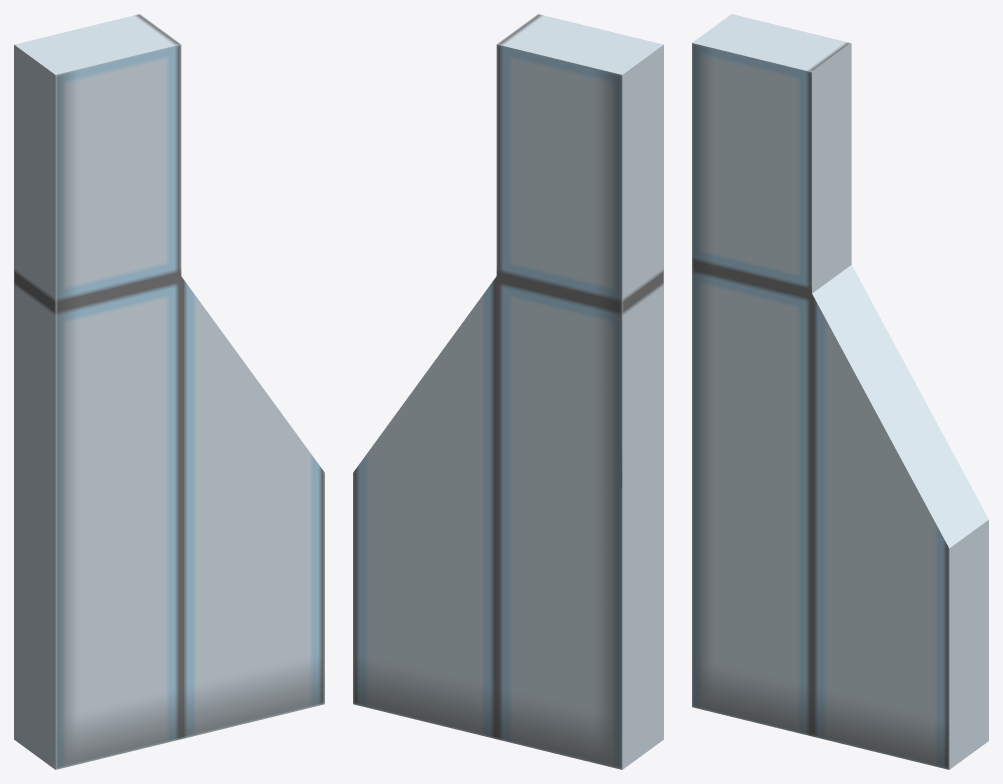
The model's file is HomeDoorRight.obj.
The picture shows the model from 3 angles, left to right: view 1: azimuth 30°, elevation 25°; view 2: azimuth 150°, elevation 25°; view 3: azimuth 330°, elevation 25°; orthographic projection. The views are drawn at different scales.
Parts seen in each view (by area): view 1: cuboid; view 2: cuboid; view 3: cuboid.
Boxes of the visible parts, bbox=[...] form: cuboid: bbox=[14, 14, 324, 769]; cuboid: bbox=[353, 14, 663, 769]; cuboid: bbox=[692, 14, 988, 769].
Size of the model in its own units: 0.9375 by 2.31 by 0.25.
1 material, 1 textured.
